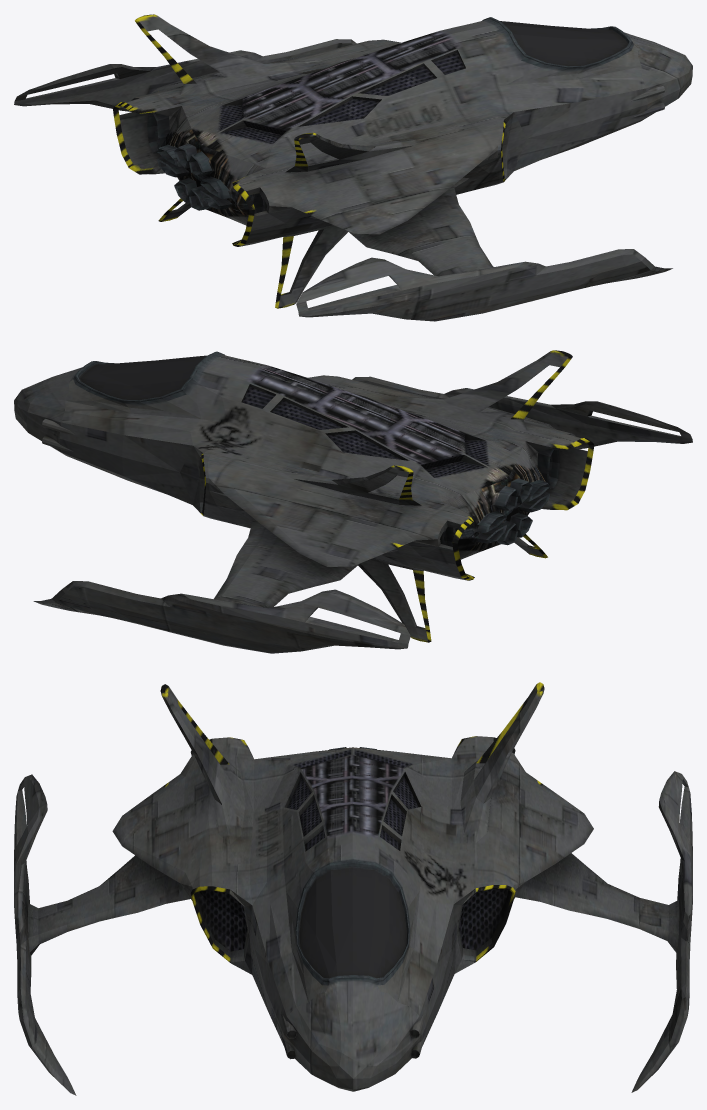
Rendered from GhoulFighter.obj.
3 renders of one model, top to bottom at view 1: azimuth 30°, elevation 25°; view 2: azimuth 150°, elevation 25°; view 3: azimuth 270°, elevation 25°, orthographic. The views are drawn at different scales.
Parts seen in each view (by area): view 1: Box01; view 2: Box01; view 3: Box01.
Boxes of the visible parts, bbox=[...] form: Box01: bbox=[14, 14, 692, 321]; Box01: bbox=[14, 350, 692, 653]; Box01: bbox=[14, 682, 692, 1095].
Bounding box in the file's own units: 19.8 × 6.75 × 18.47.
Materials: 1 (1 with a texture image).
